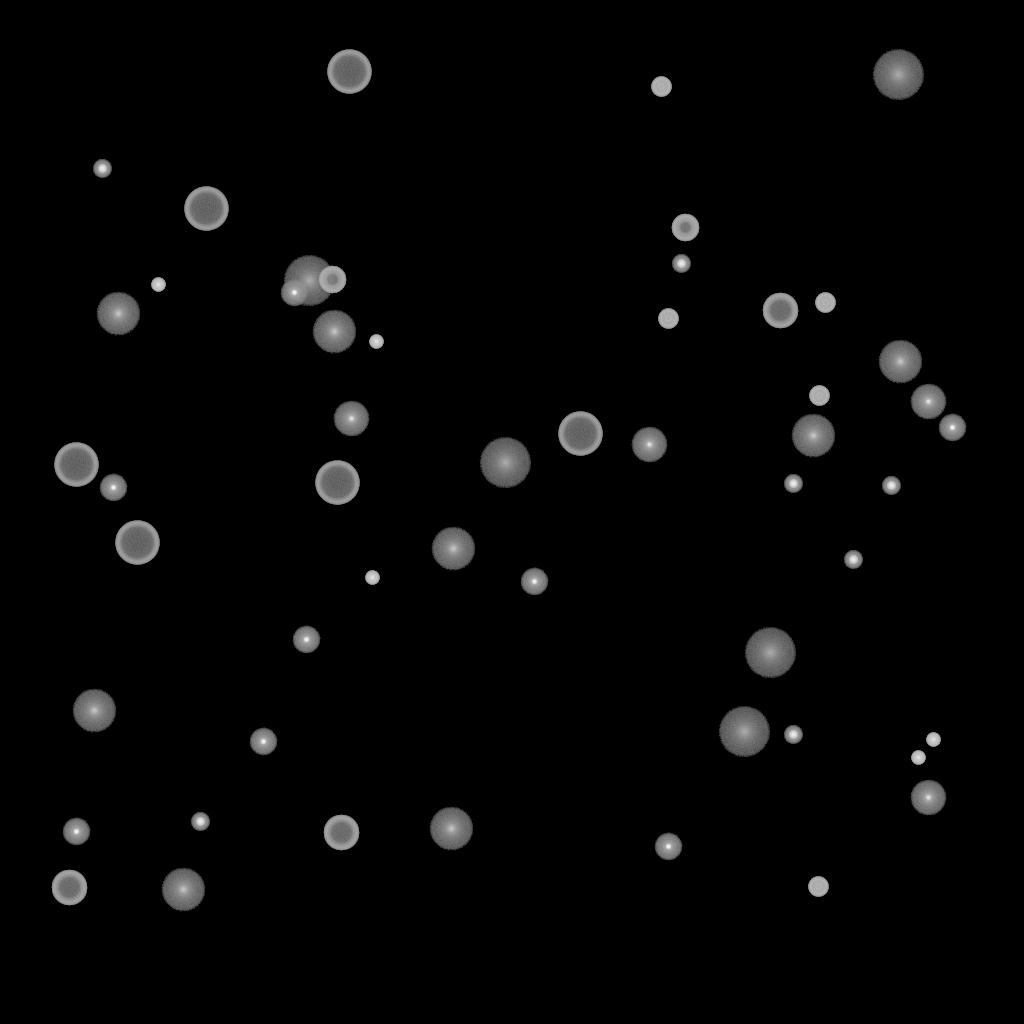depth:-10: (99, 474, 127, 502), (938, 414, 966, 442), (280, 279, 308, 307), (520, 568, 548, 596), (249, 728, 277, 756), (654, 833, 682, 861), (62, 818, 90, 846), (292, 626, 320, 654)
depth:-20: (784, 475, 802, 493), (844, 551, 862, 569), (93, 160, 111, 178), (672, 255, 690, 273), (784, 726, 802, 744), (882, 477, 900, 495), (191, 813, 209, 831)
depth:-30: (365, 571, 379, 585), (926, 733, 940, 747), (911, 751, 925, 765), (369, 335, 383, 349), (151, 278, 165, 292)
depth:-40: (809, 386, 829, 406), (815, 293, 835, 313), (808, 877, 828, 897), (651, 77, 671, 97), (658, 309, 678, 329)
depth:-50: (318, 266, 346, 294), (671, 214, 699, 242)
depth:-60: (762, 293, 798, 329), (51, 870, 87, 906), (323, 815, 359, 851)
depth:-70: (54, 443, 98, 487), (558, 412, 602, 456), (115, 521, 159, 565), (184, 187, 228, 231), (315, 461, 359, 505), (327, 50, 371, 94)
depth:0: (631, 427, 667, 463), (910, 780, 946, 816), (333, 401, 369, 437), (910, 384, 946, 420)
depth:10: (429, 807, 473, 851), (878, 340, 922, 384), (161, 868, 205, 912), (312, 310, 356, 354), (96, 292, 140, 336), (72, 689, 116, 733), (791, 414, 835, 458), (431, 527, 475, 571)
depth:20: (479, 438, 531, 488), (872, 50, 924, 100), (744, 628, 796, 678), (283, 256, 335, 306), (718, 707, 770, 757)
